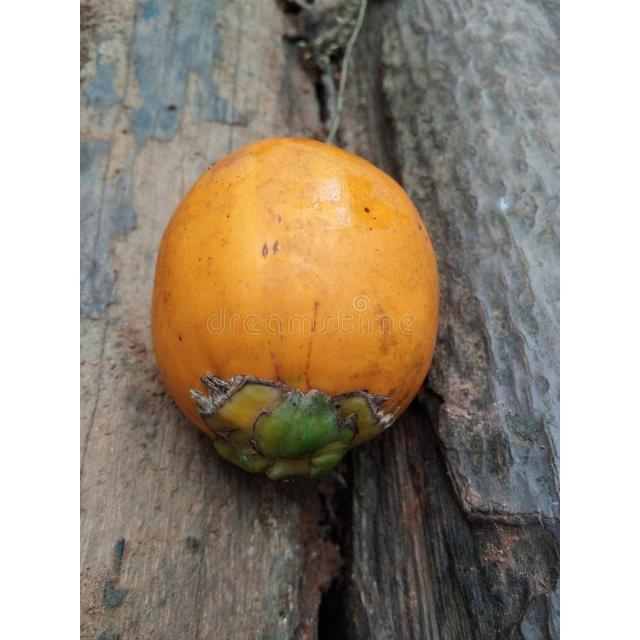good: (150, 137, 440, 482)
